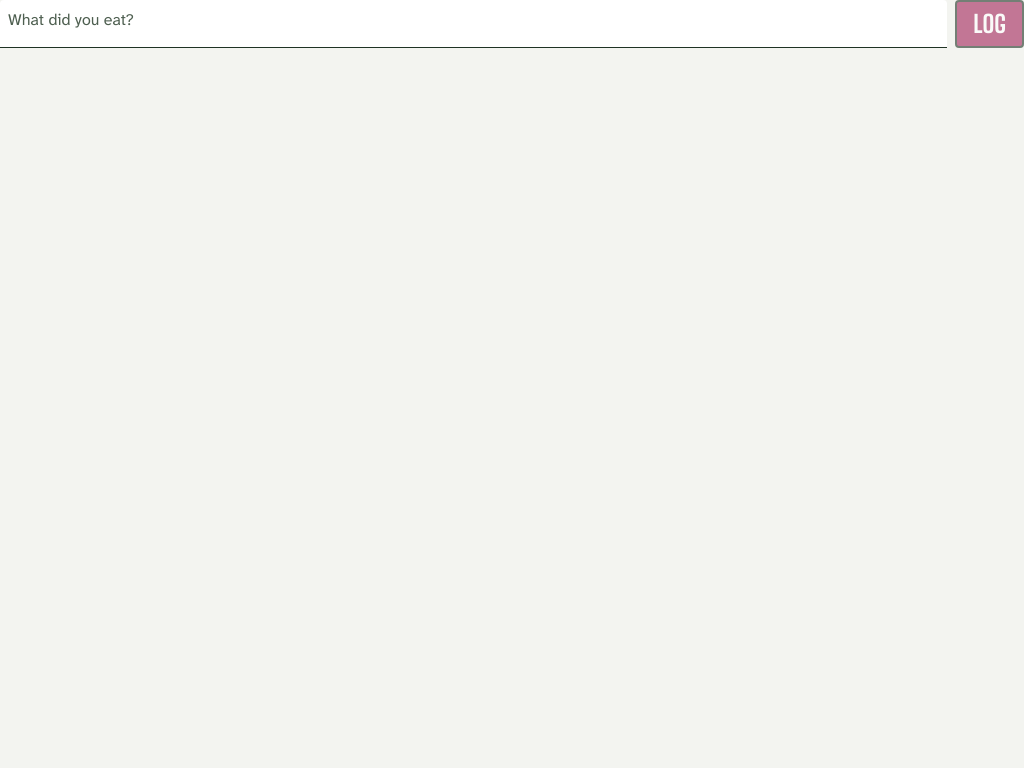
editing grams › scrolls again when the keypad resizes the viewport, and stops listening once the sheet closes
Step 1. Type "2 eggs and 150 g blueberries" into the text box labelled "What did you eat?" → (474, 24), box [0, 0, 947, 48]
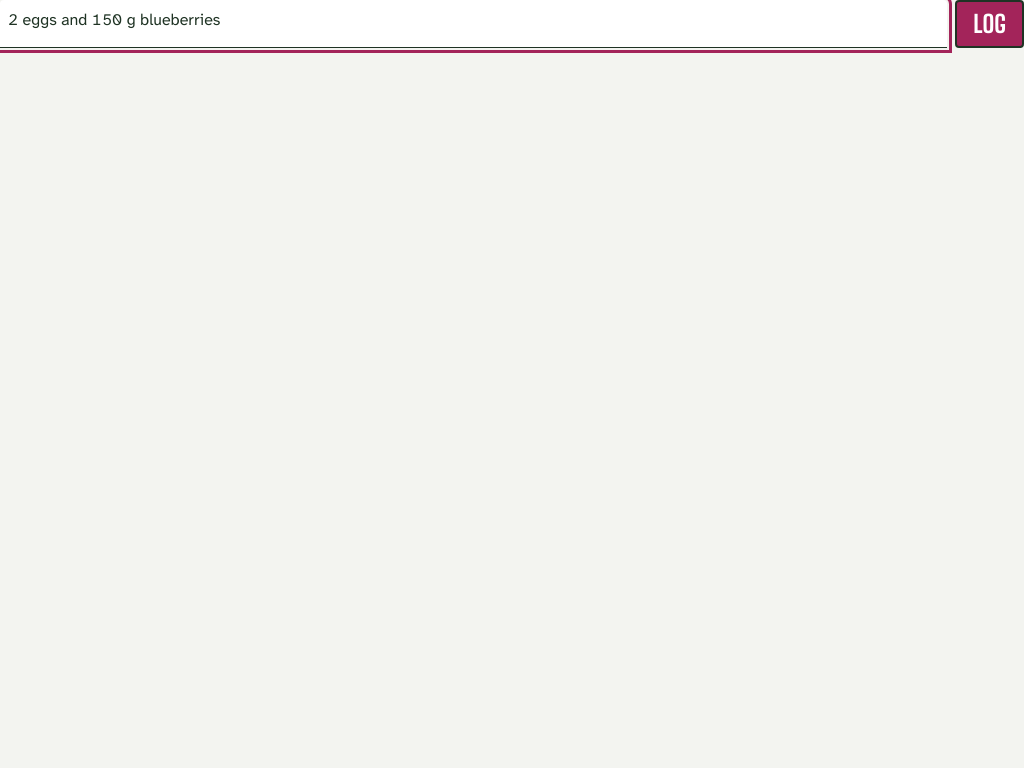
Step 2. Click the button "Log" → (990, 24), box [955, 0, 1023, 48]
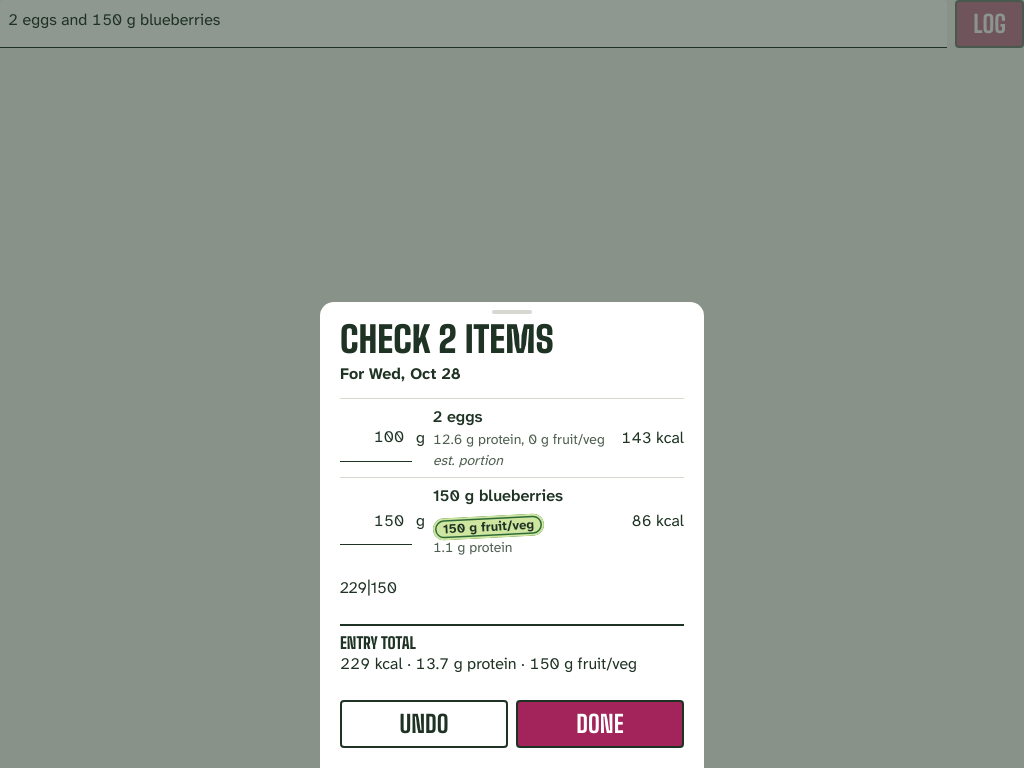
Step 3. Click the field named "Grams of 2 eggs" → (376, 438), box [340, 414, 412, 462]
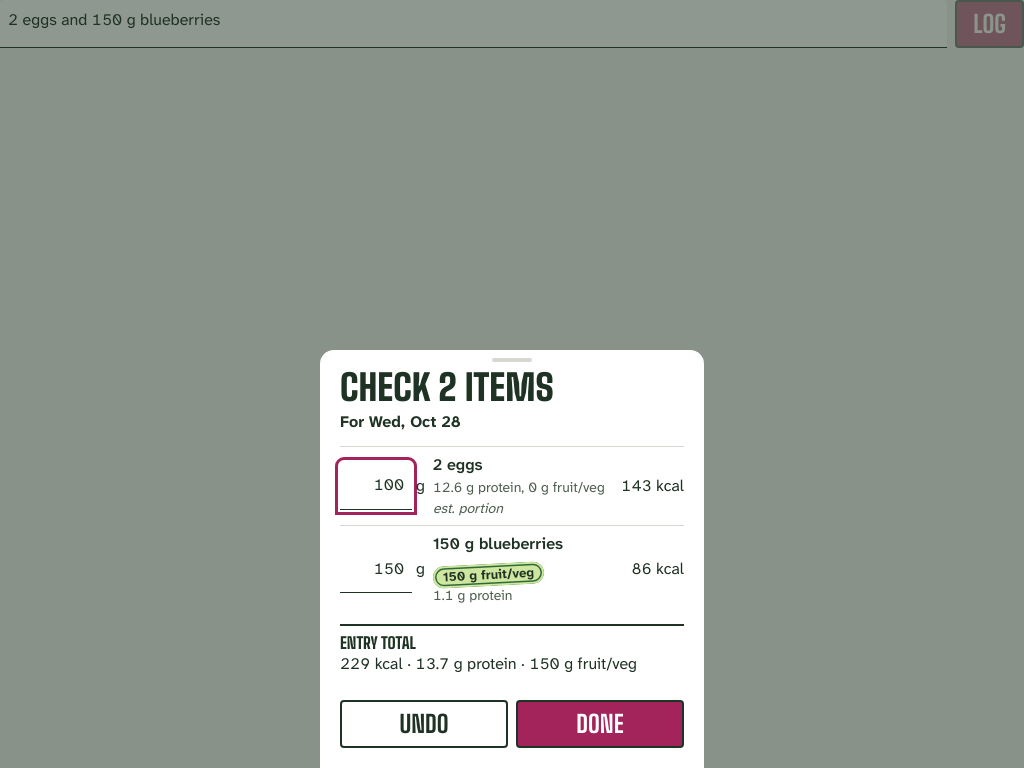
Step 4. Press Escape
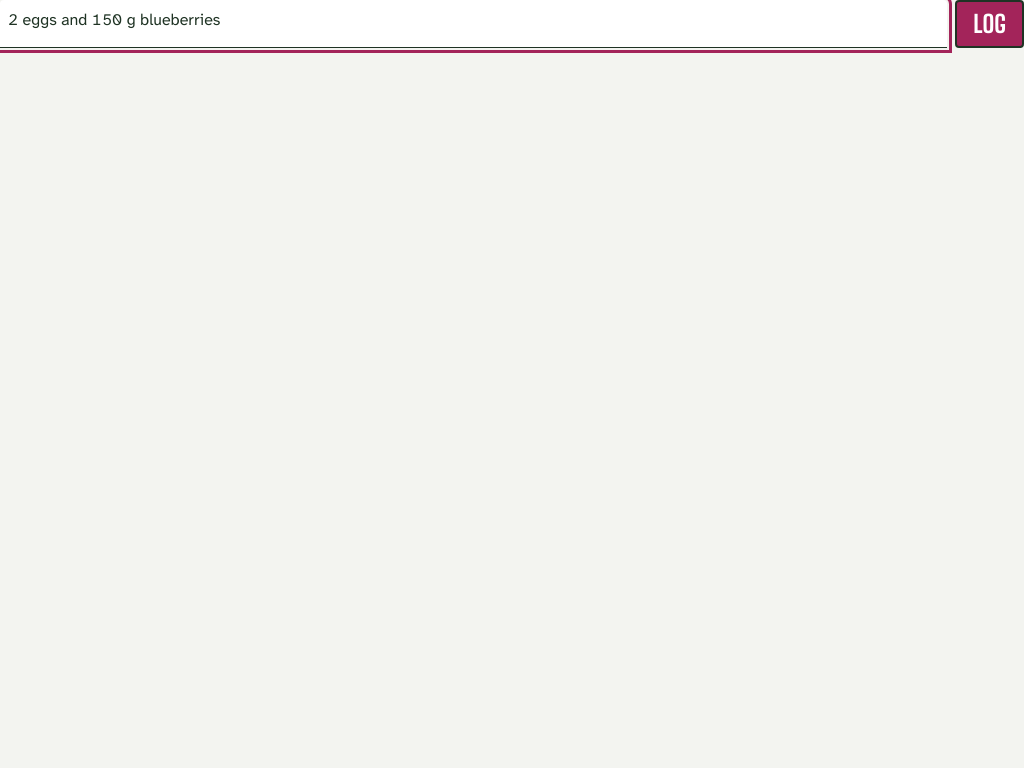
Expected: the dialog is gone
